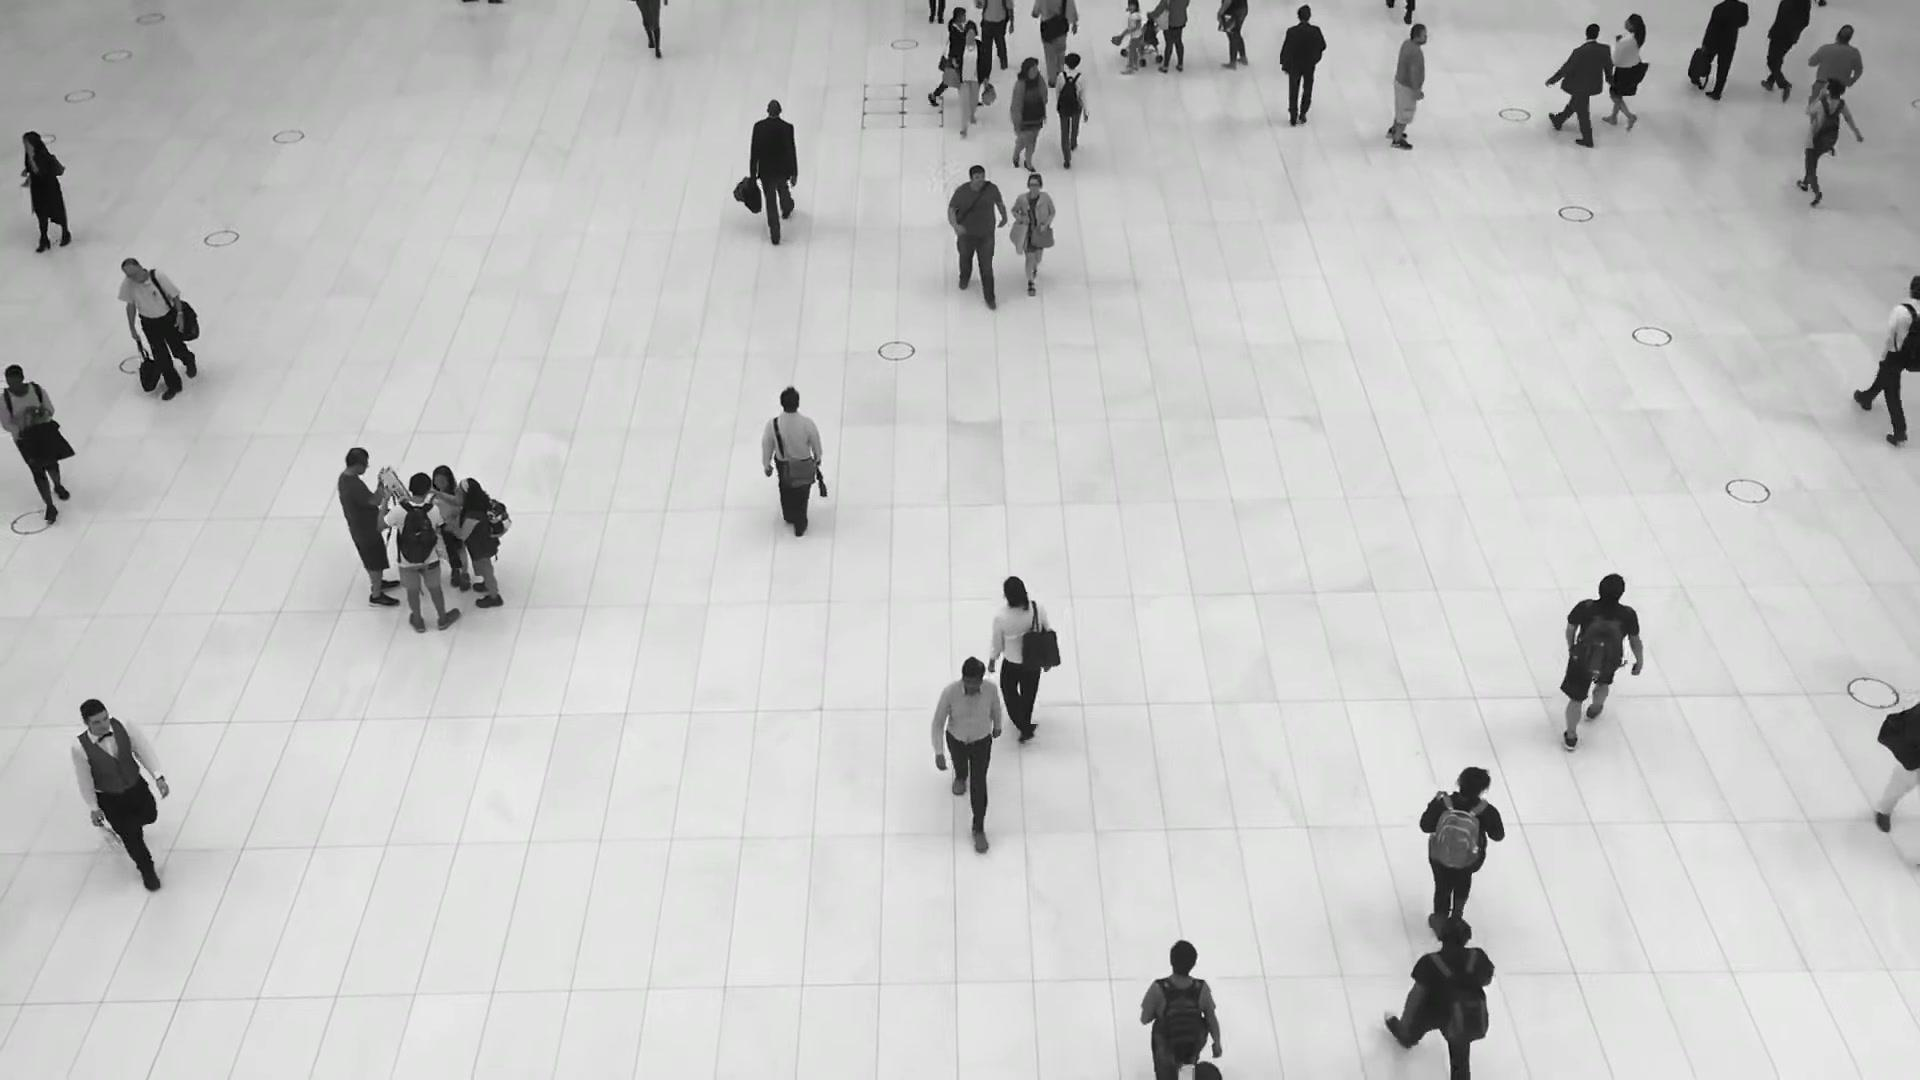person: (70, 697, 170, 892), (1387, 916, 1491, 1080), (1561, 578, 1644, 762), (930, 652, 1005, 846), (1420, 770, 1507, 927), (378, 473, 459, 631), (117, 255, 196, 400), (1141, 941, 1220, 1080), (1856, 275, 1920, 444), (0, 365, 70, 521), (337, 446, 403, 607), (987, 575, 1049, 744), (761, 388, 824, 547), (944, 163, 1007, 307), (1546, 24, 1612, 149), (1797, 79, 1862, 206), (748, 100, 800, 248), (454, 477, 507, 609), (20, 131, 72, 254), (1278, 7, 1328, 134), (1385, 23, 1428, 152), (425, 466, 469, 589), (1010, 171, 1055, 293), (1698, 0, 1749, 103), (1762, 0, 1812, 99), (1605, 13, 1647, 129), (1005, 57, 1047, 172), (1807, 22, 1864, 102), (950, 21, 988, 138), (1052, 52, 1091, 168), (1030, 0, 1080, 89), (928, 7, 966, 108), (1118, 0, 1143, 76)
